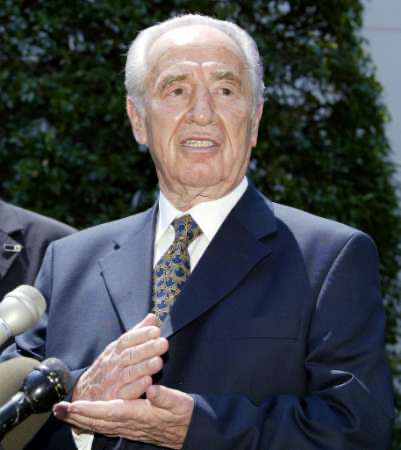Face: (145, 50, 254, 189)
